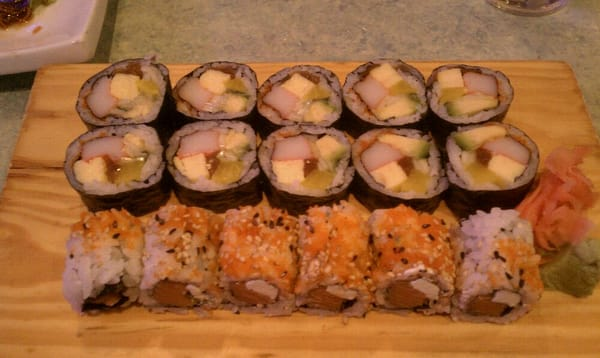pizza: (484, 0, 570, 18)
sushi: (64, 121, 169, 217), (444, 122, 540, 211), (352, 127, 449, 204)
